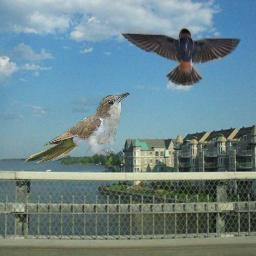Cuckoo: (24, 92, 130, 163)
Swallow: (117, 26, 242, 86)
